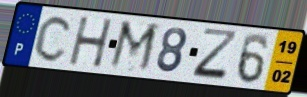6: (236, 32, 271, 85)
8: (155, 26, 190, 75)
C: (33, 13, 76, 64)
H: (67, 16, 115, 69)
M: (106, 18, 162, 76)
Z: (190, 26, 241, 83)
